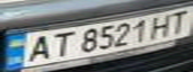1: (130, 17, 154, 43)
2: (112, 20, 136, 47)
5: (97, 22, 118, 52)
8: (78, 25, 103, 54)
A: (18, 33, 57, 64)
H: (145, 11, 178, 39)
T: (45, 29, 78, 58), (163, 8, 193, 35)
